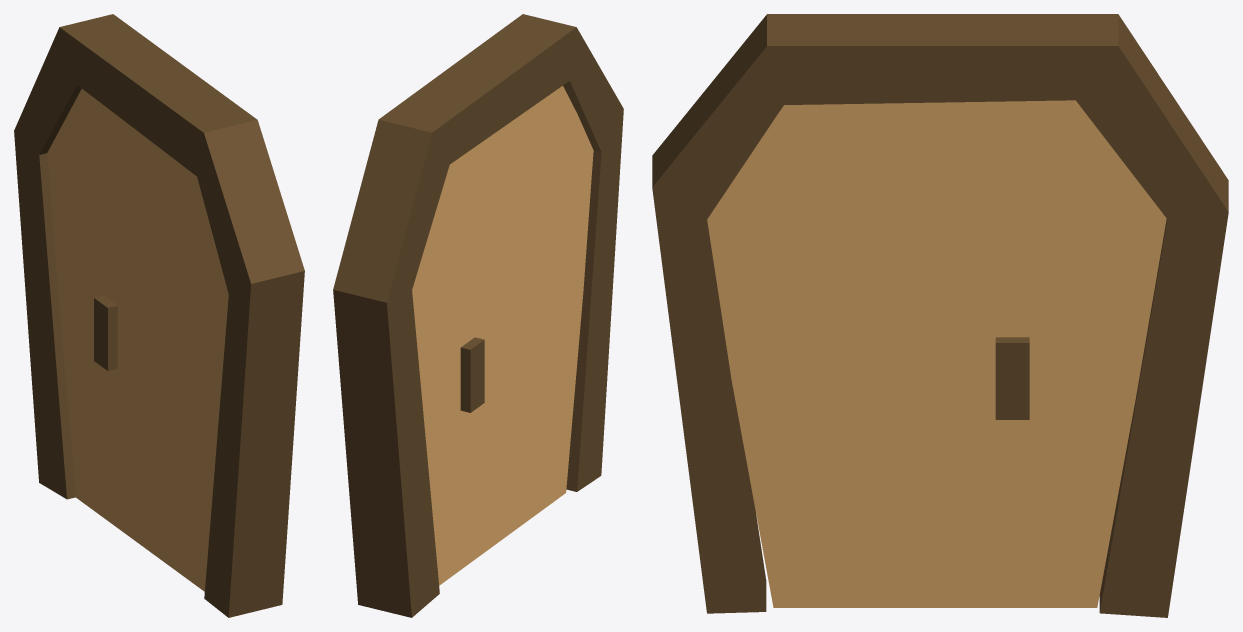
The model's file is Door1.fbx.
3 views of the same model, side by side, from view 1: azimuth 30°, elevation 25°; view 2: azimuth 150°, elevation 25°; view 3: azimuth 270°, elevation 25° (orthographic). The views are drawn at different scales.
Visible parts, largest first — view 1: pCube6, pCube4, pCube7; view 2: pCube6, pCube4, pCube7; view 3: pCube4, pCube6, pCube7.
Part boxes in pixels (x1,y1,x2,y2): pCube6: (14,14,304,617); pCube4: (47,89,228,591); pCube7: (94,295,117,370); pCube6: (333,14,623,617); pCube4: (412,86,593,585); pCube7: (460,337,484,412); pCube4: (707,100,1166,607); pCube6: (652,14,1228,617); pCube7: (995,337,1029,419).
Bounding box in the file's own units: 1.24 × 9.66 × 8.83.
